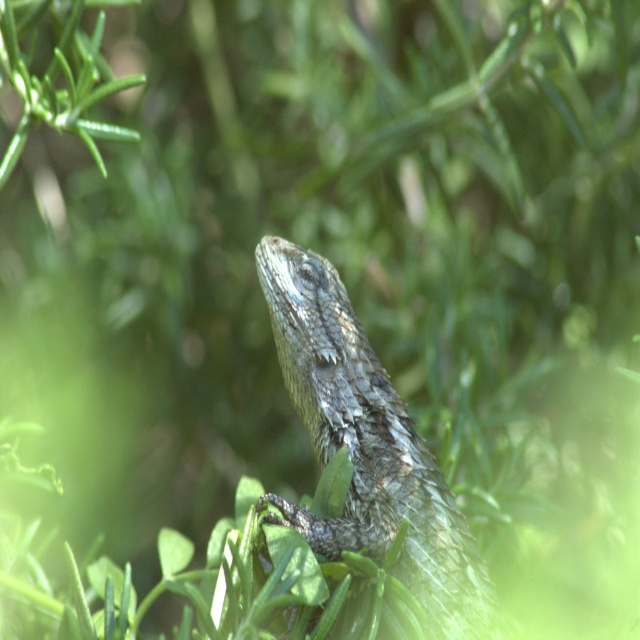Lizard: (231, 242, 518, 630)
